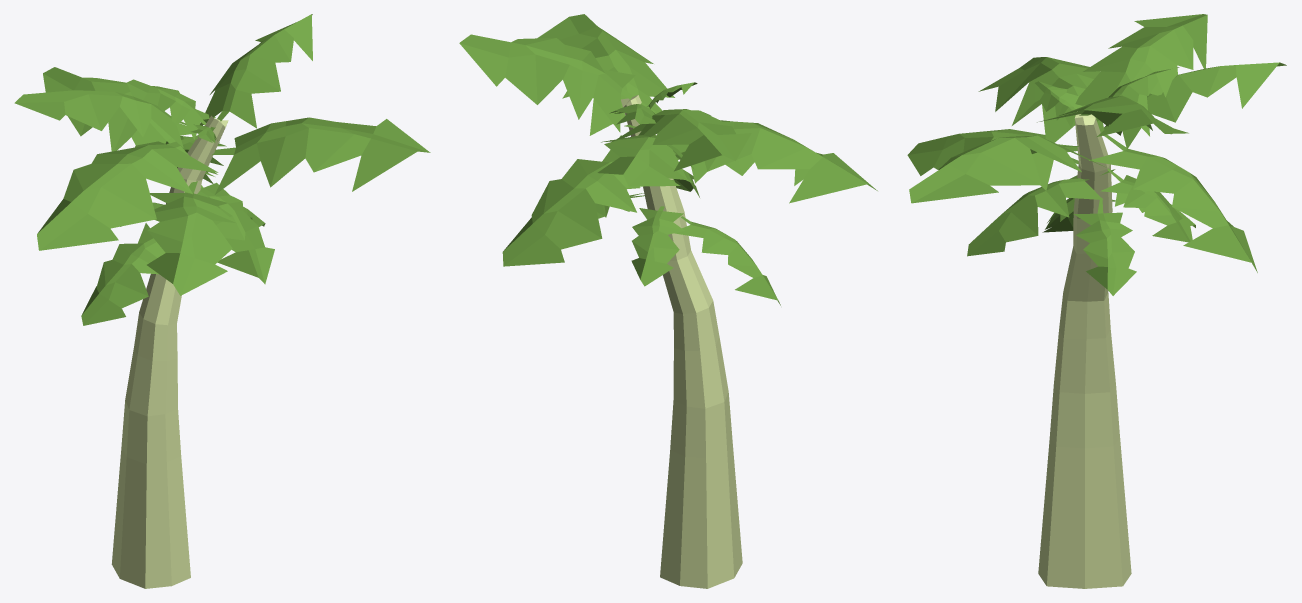
The model's file is Palm_A.glb.
The picture shows the model from 3 angles, left to right: view 1: azimuth 30°, elevation 25°; view 2: azimuth 150°, elevation 25°; view 3: azimuth 270°, elevation 25°; orthographic projection. The views are drawn at different scales.
Visible parts, largest first — view 1: Palm_Tree; view 2: Palm_Tree; view 3: Palm_Tree.
Boxes of the visible parts, x1,y1,x2,y2 form: Palm_Tree: [14, 14, 430, 588]; Palm_Tree: [459, 14, 877, 588]; Palm_Tree: [907, 14, 1286, 588].
Size of the model in its own units: 6.01 by 8.15 by 5.05.
